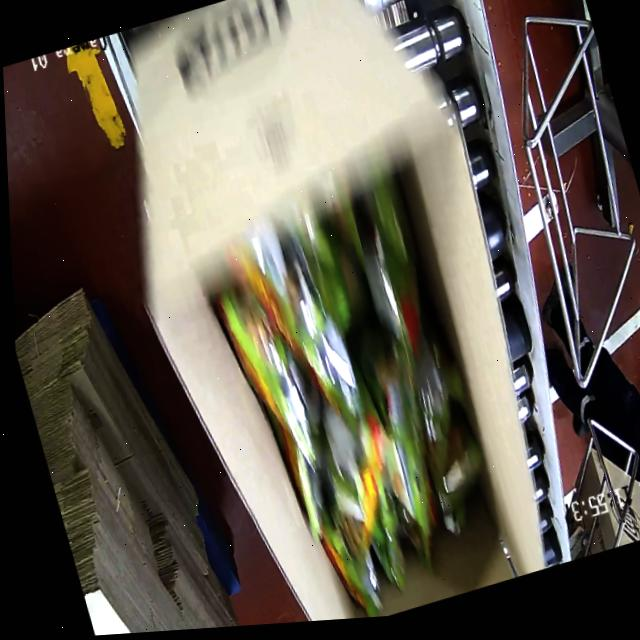YOGURT_HERB: (195, 177, 520, 626)
